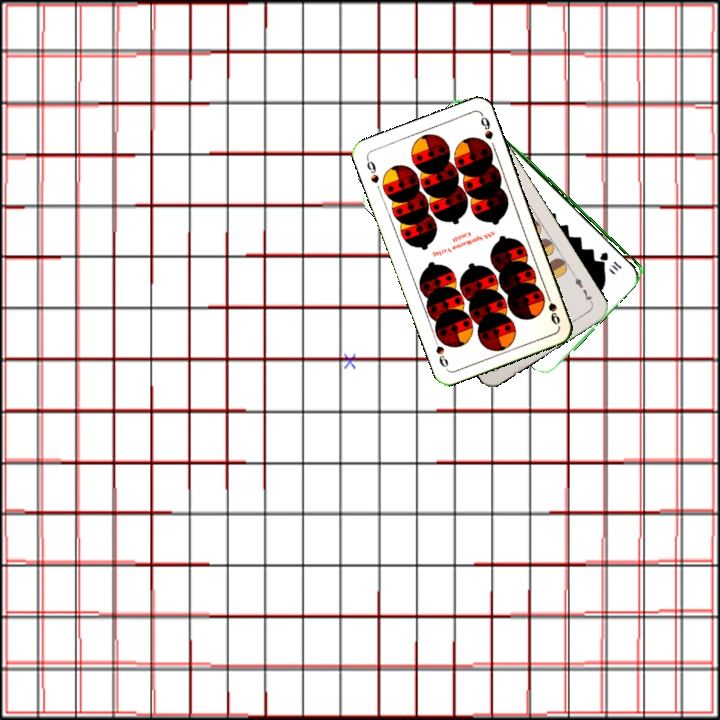E7: (569, 270, 596, 307)
G10: (597, 248, 624, 274)
S9: (542, 288, 563, 327), (362, 154, 382, 186)
